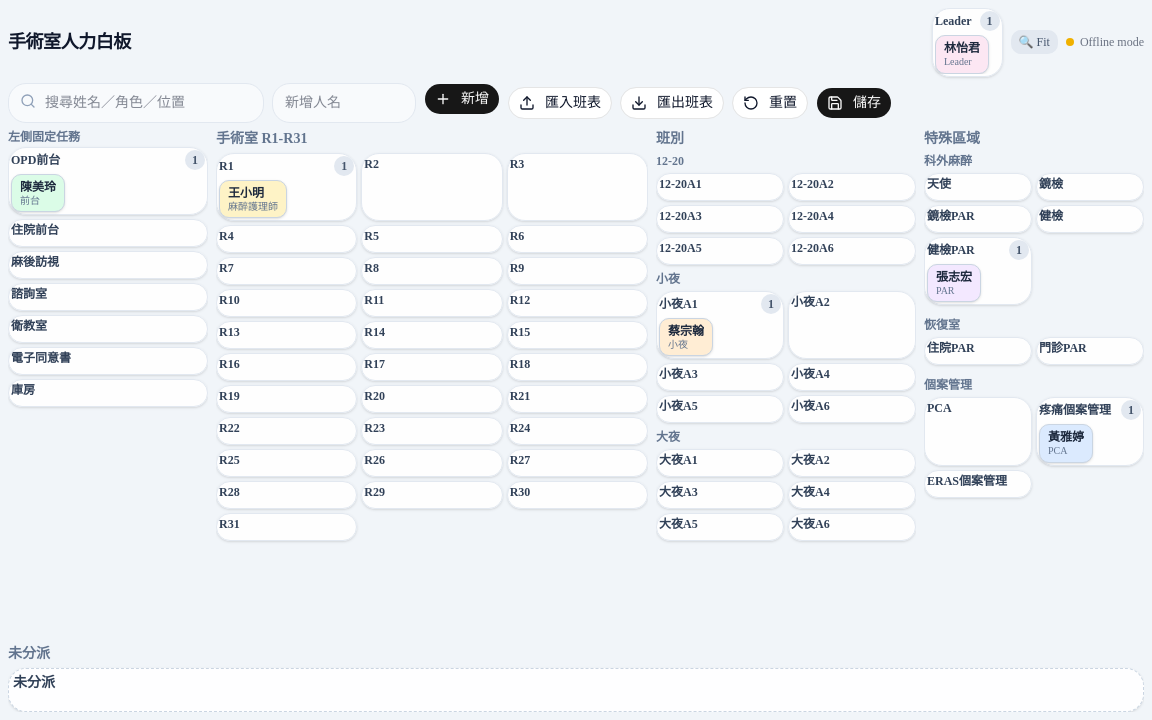
Board › add person creates new person in 未分派
Type "新人測試" into the field with placeholder "新增人名" at (344, 102), box [272, 82, 416, 122]
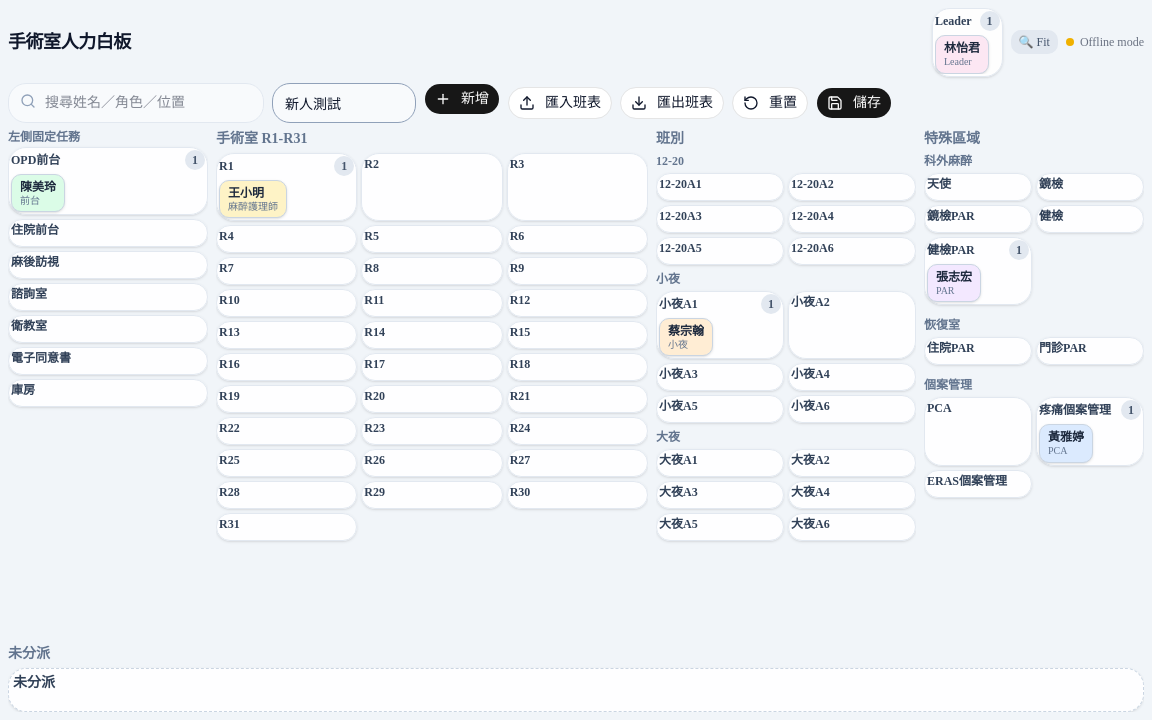
Click the button "新增" at (462, 98), box [424, 82, 500, 114]
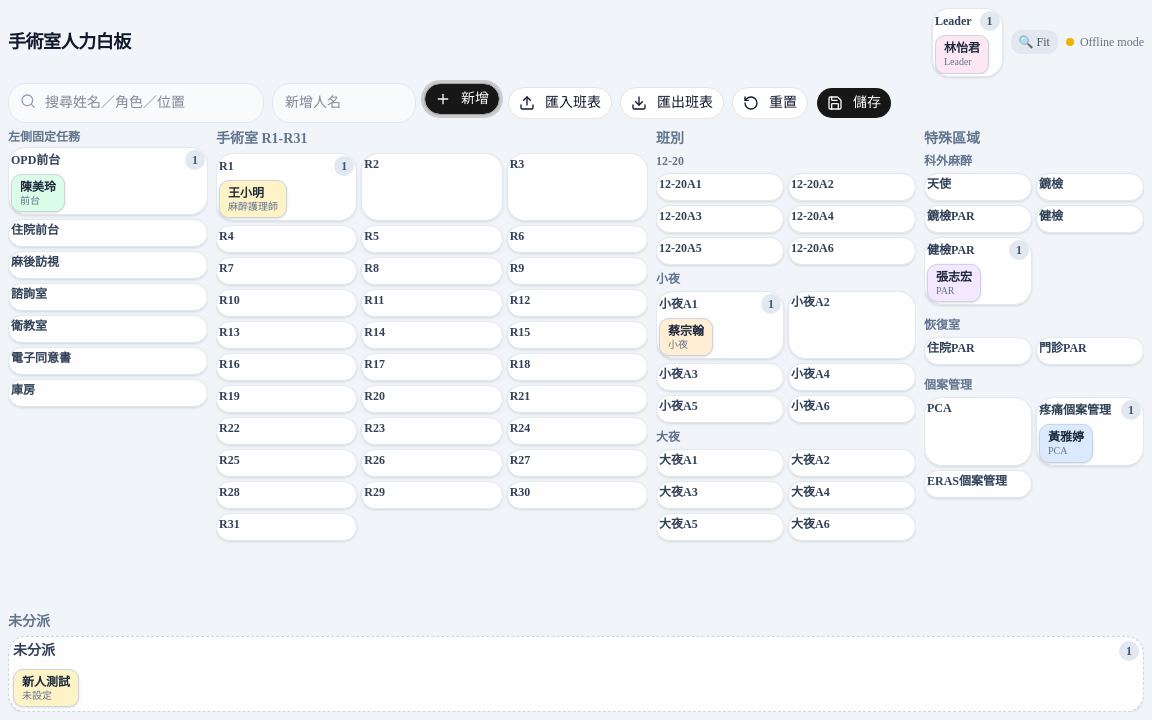
Check: the text "新人測試" is shown, box [22, 674, 70, 690]
